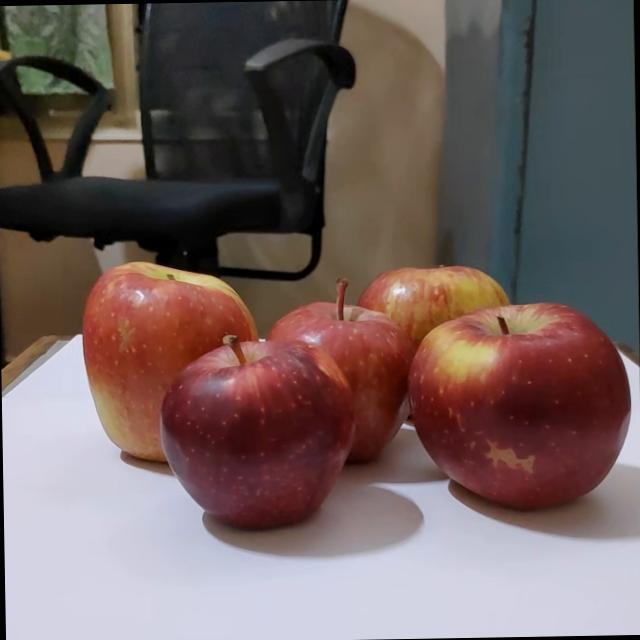apple: (371, 303, 604, 518), (130, 343, 328, 530), (62, 262, 236, 464), (241, 282, 396, 472), (322, 258, 497, 386)
